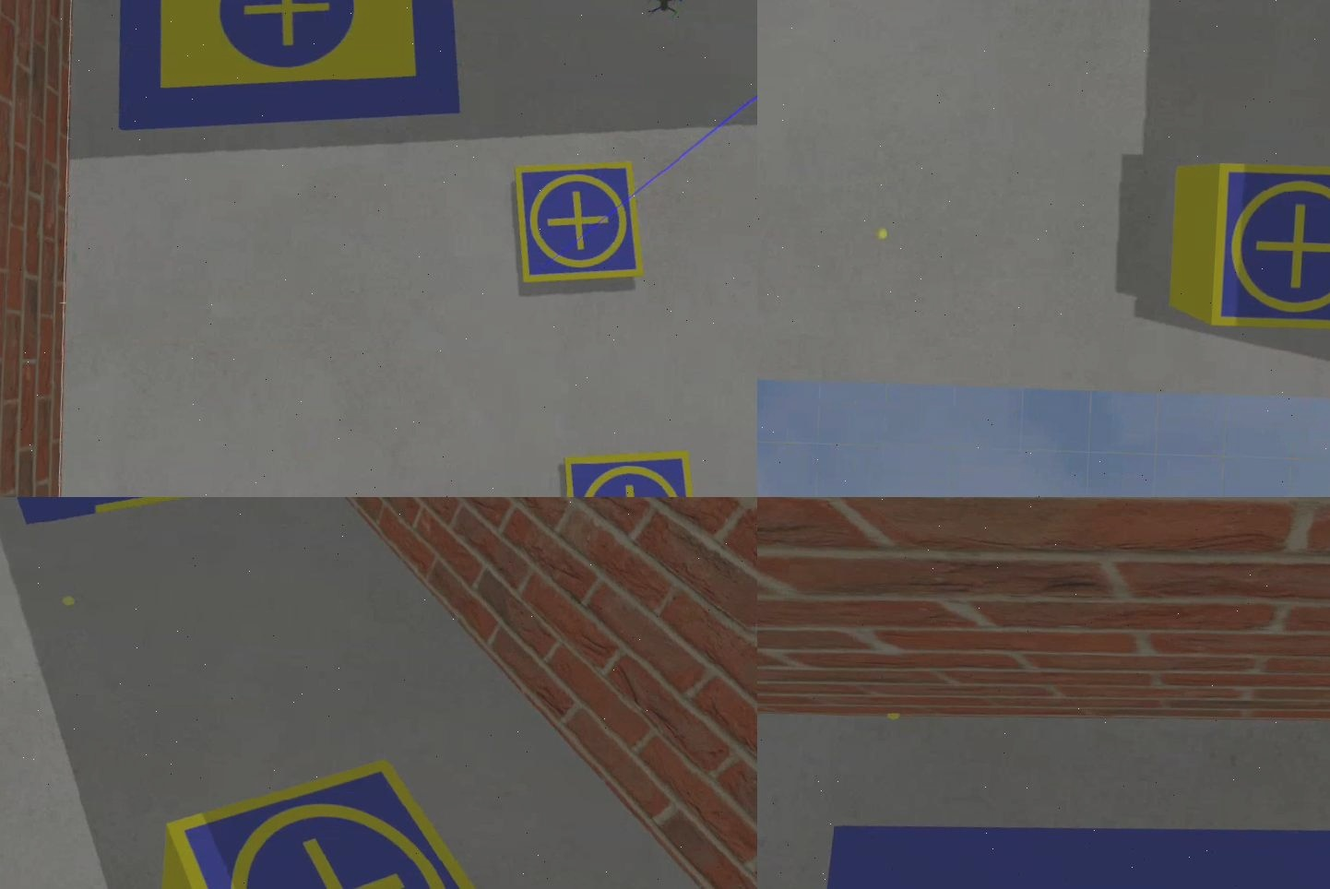large_base: (109, 1, 476, 153), (803, 794, 1330, 889)
small_base: (155, 743, 557, 889), (1208, 159, 1330, 339), (505, 155, 649, 297), (557, 445, 712, 498)
